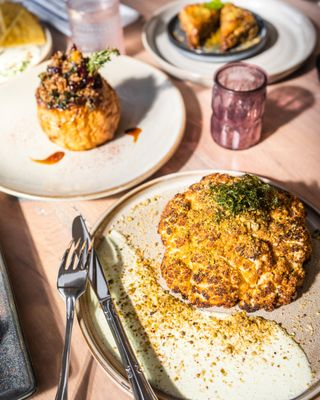burger: (87, 216, 160, 400), (54, 216, 92, 399)
pizza: (210, 62, 268, 151), (65, 0, 126, 55)
sandwich: (0, 188, 65, 398)
